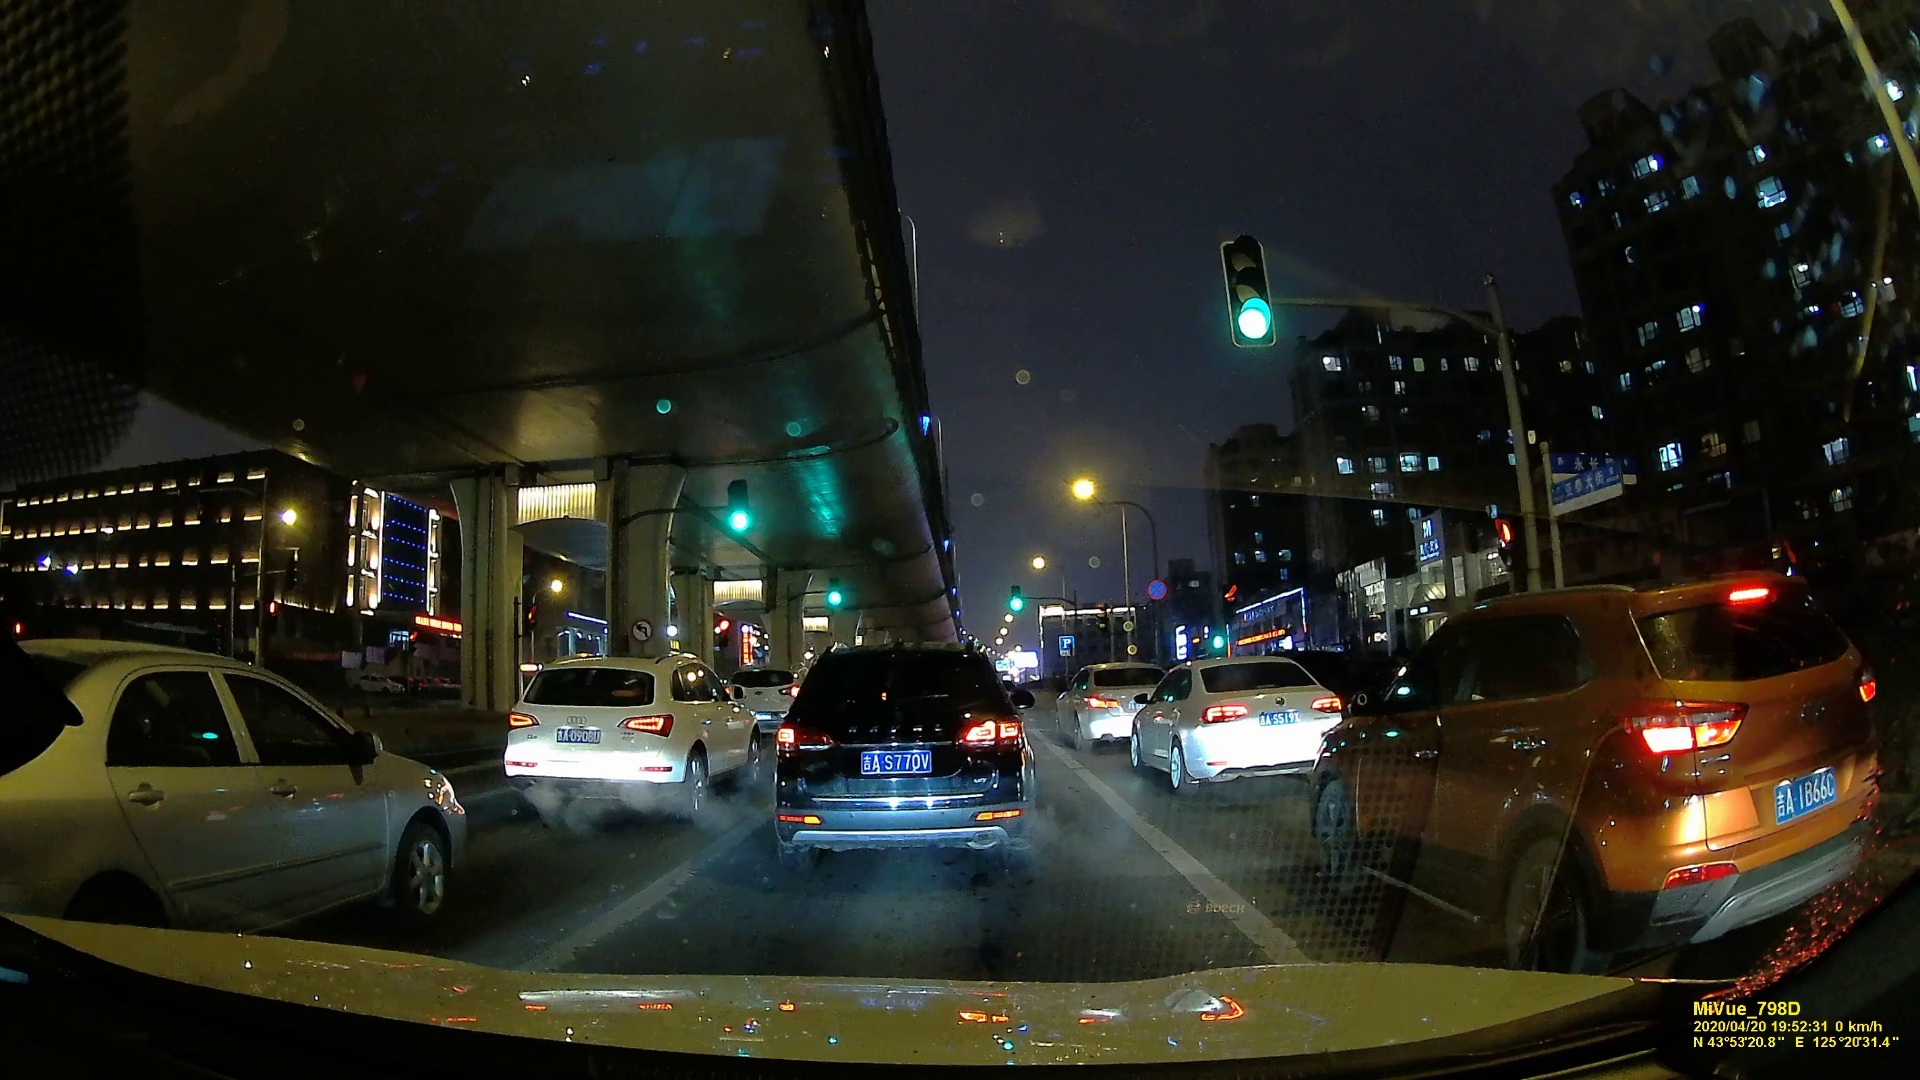traffic_sign: (1220, 233, 1282, 352), (1545, 465, 1633, 509), (1495, 516, 1527, 579), (727, 481, 750, 531), (1220, 580, 1240, 620), (1146, 578, 1170, 600), (632, 618, 651, 644), (1007, 585, 1023, 615), (828, 578, 843, 605), (1058, 634, 1076, 655)
vehicle: (1348, 572, 1899, 971), (4, 634, 462, 938), (767, 634, 1039, 877), (498, 649, 754, 812), (1134, 651, 1348, 793), (1058, 661, 1162, 749), (727, 662, 793, 727)
